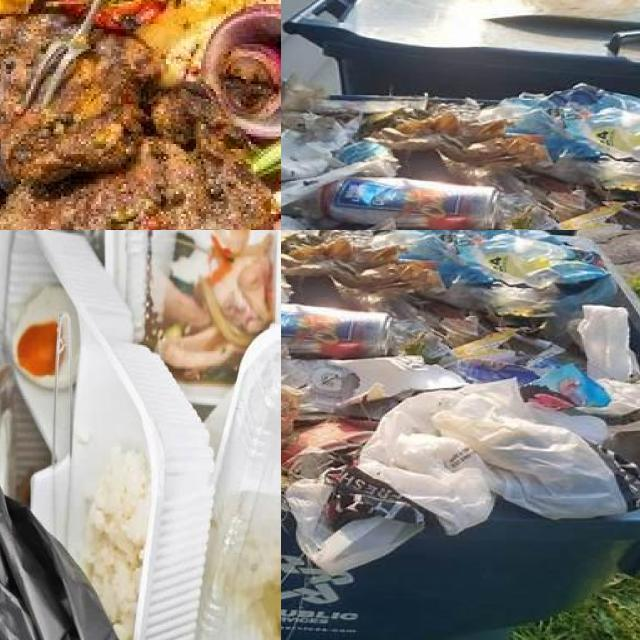Garbage: (281, 230, 640, 583), (0, 230, 281, 640), (281, 81, 640, 230)
Metal: (25, 0, 105, 110)
Plastic_Bag: (359, 379, 627, 534), (285, 467, 424, 574), (374, 230, 608, 288), (481, 84, 640, 162), (281, 349, 361, 412), (572, 304, 638, 380)
Plastic_wraper: (454, 360, 610, 407)
can: (321, 177, 502, 230), (281, 305, 395, 358)
contaminated_waste: (0, 230, 281, 640)
